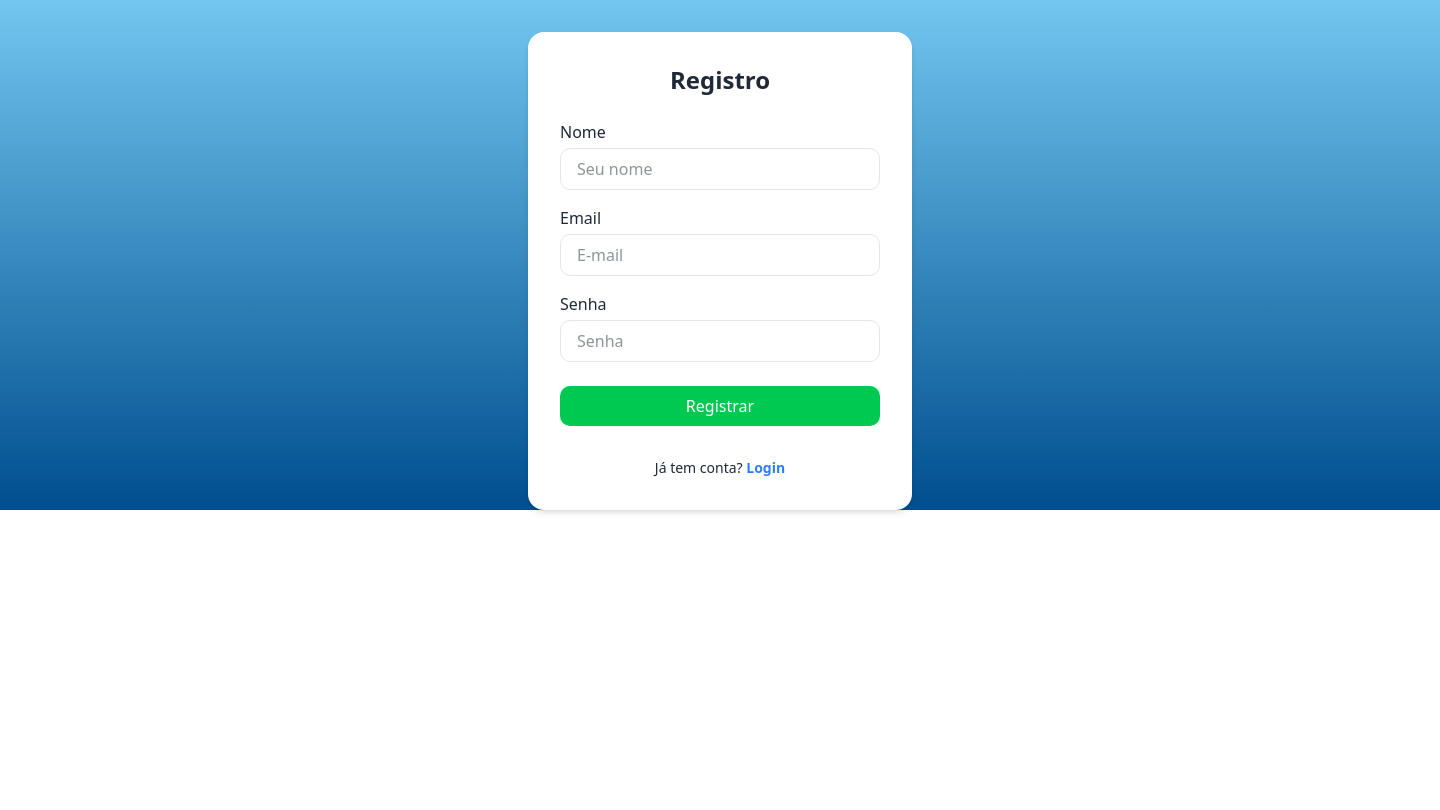
Test case: Tela de Registro › Erro quando email ja cadastrado
Step 1. Type "Teste1" into the field labelled "Nome" → point(720, 169), box [560,148,880,190]
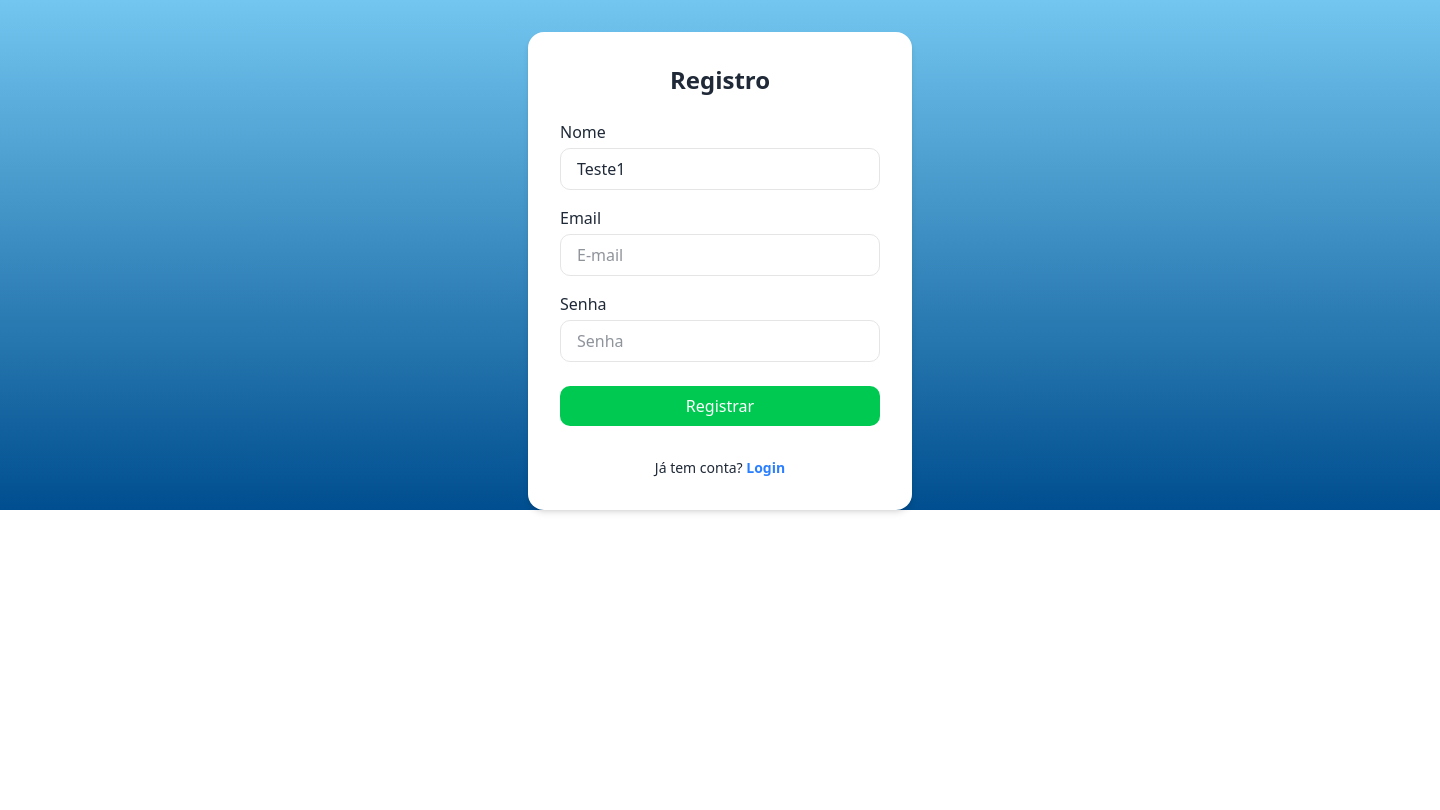
Step 2. Type "teste1@gmail.com" into the field labelled "Email" → point(720, 255), box [560,234,880,276]
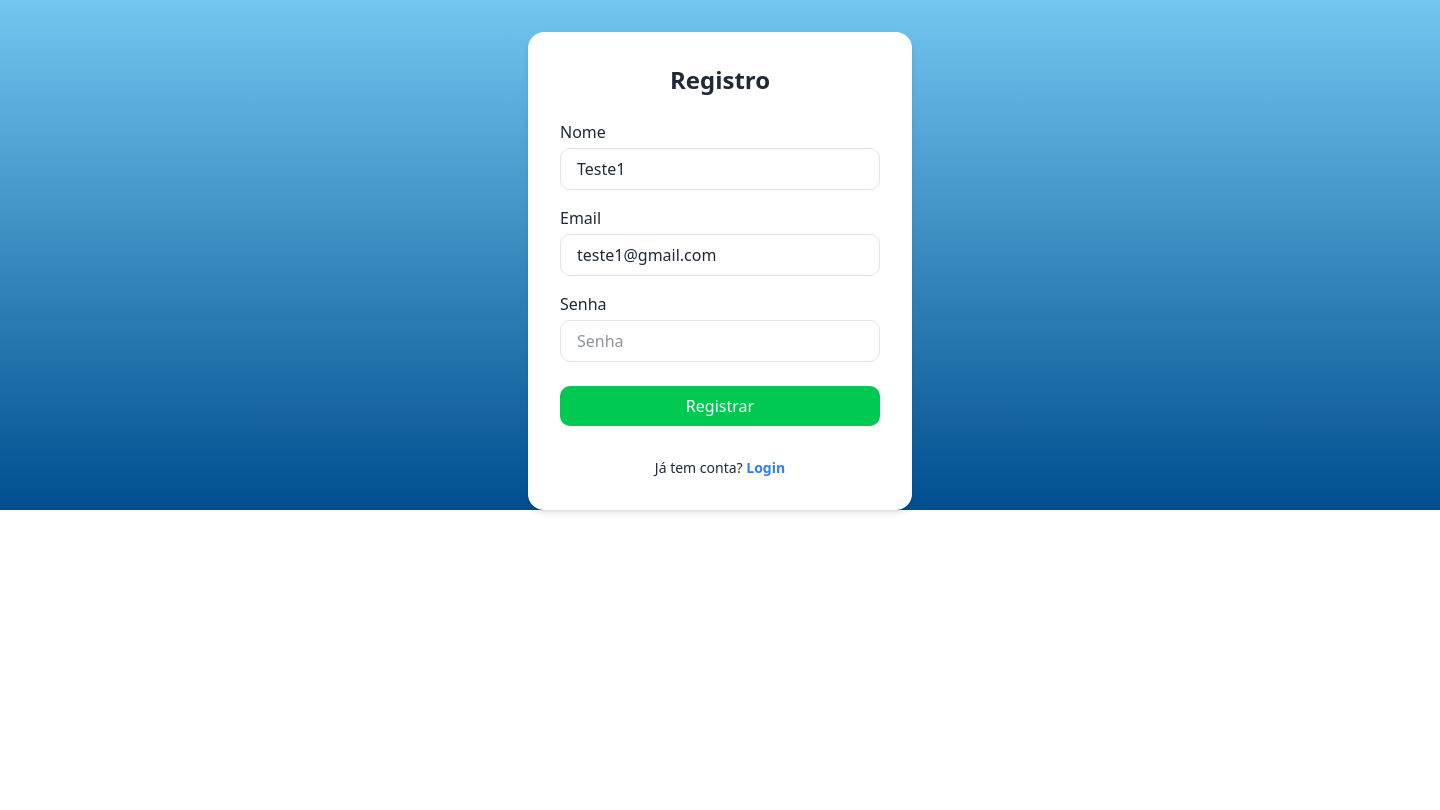
Step 3. Type "123" into the password field labelled "Senha" → point(720, 341), box [560,320,880,362]
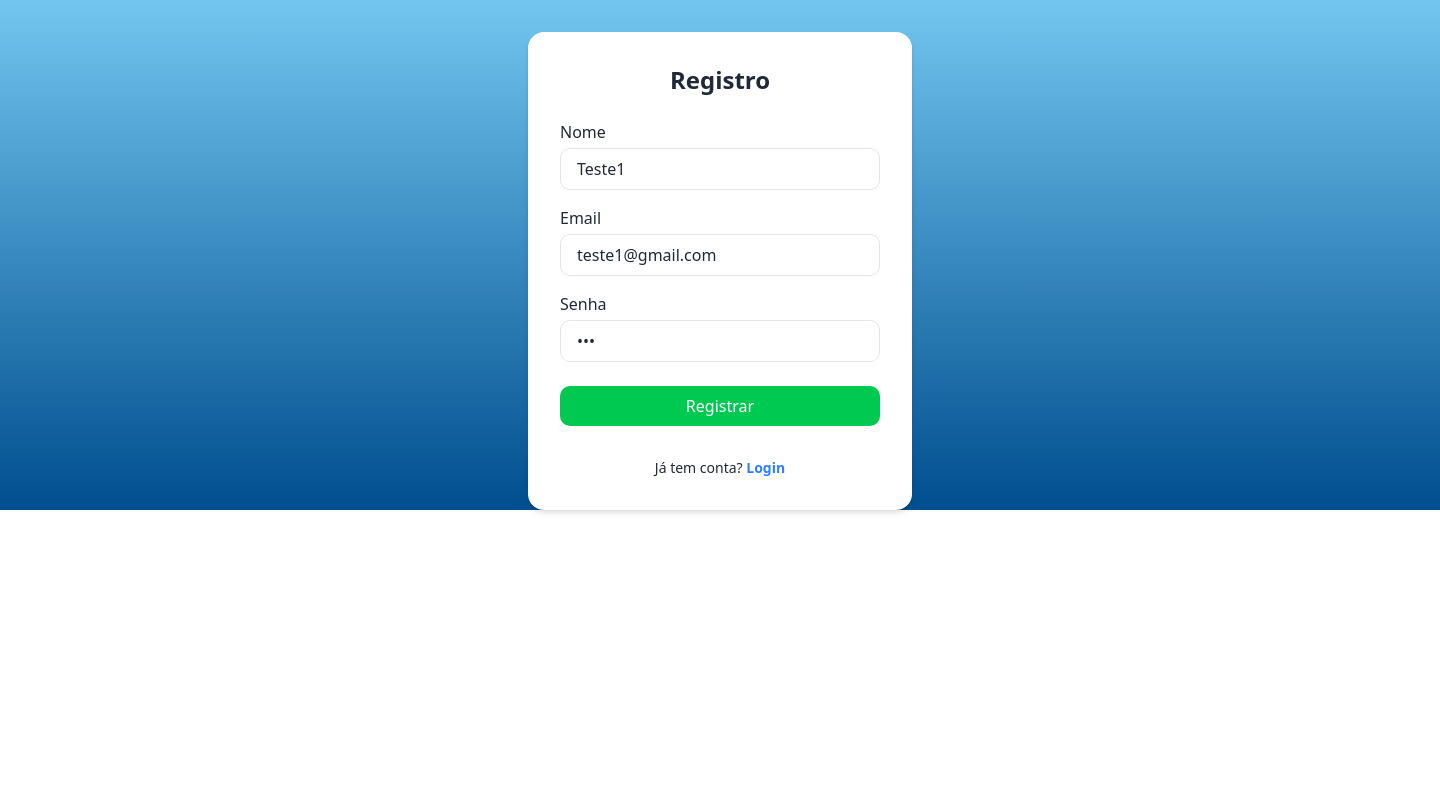
Step 4. Click the button "Registrar" → point(720, 406), box [560,386,880,426]
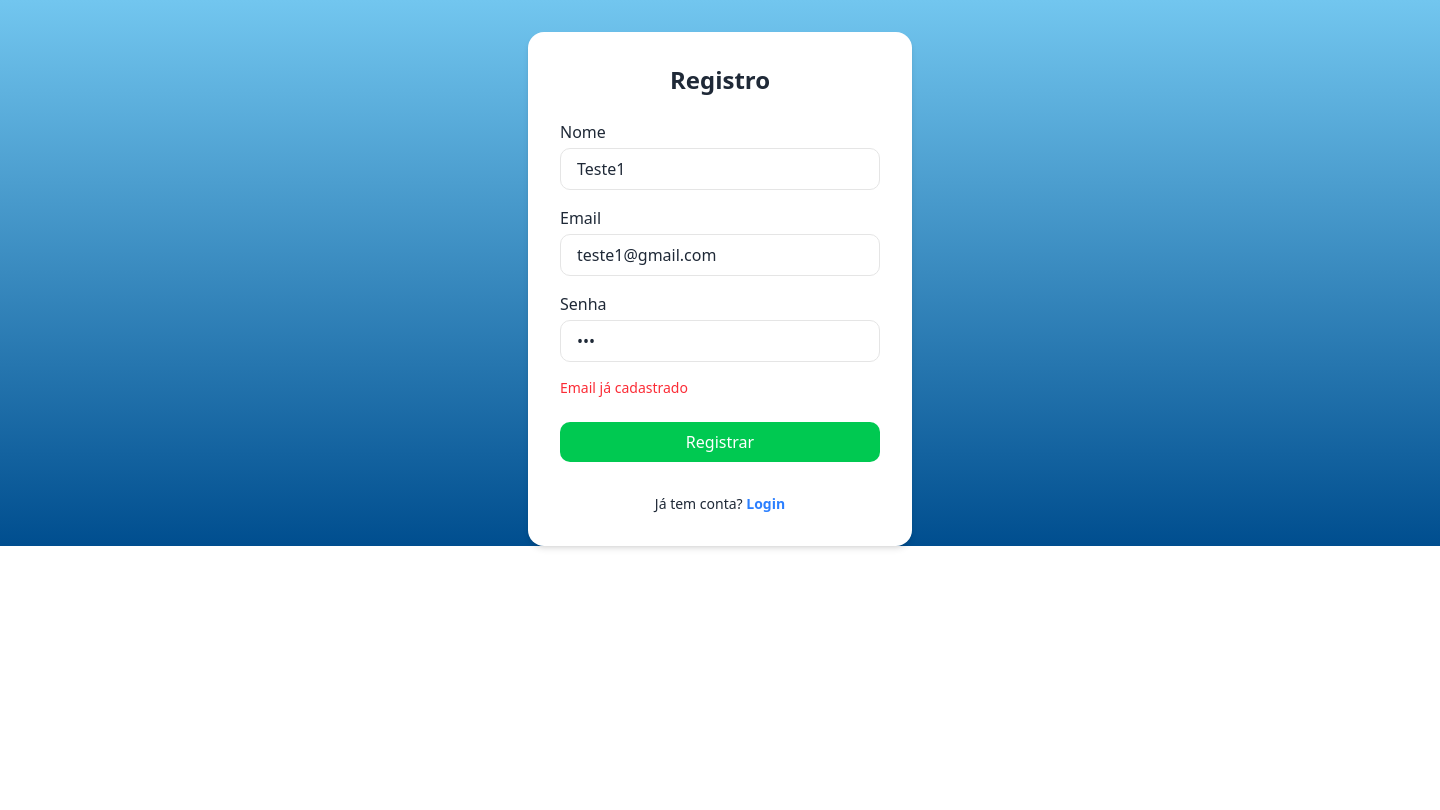
Expected: the text "Email já cadastrado" is shown, [560,378,688,397]
